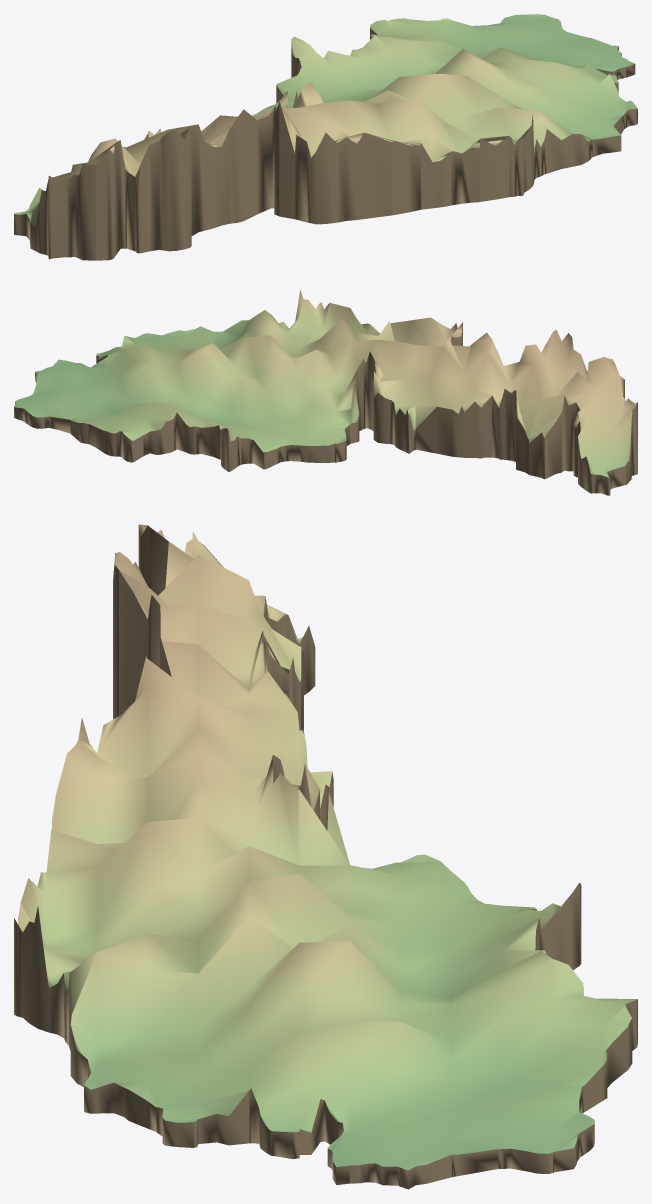
The model's file is AUT.glb.
3 views of the same model, one above another, from view 1: azimuth 30°, elevation 25°; view 2: azimuth 150°, elevation 25°; view 3: azimuth 270°, elevation 25° (orthographic). The views are drawn at different scales.
Visible parts, largest first — view 1: AUT; view 2: AUT; view 3: AUT.
Part boxes in pixels (left/top/right/bottom): AUT: left=14, top=14, right=637, bottom=260; AUT: left=14, top=290, right=637, bottom=495; AUT: left=14, top=524, right=637, bottom=1189.
Size of the model in its own units: 1.85 by 0.338 by 0.9393.
